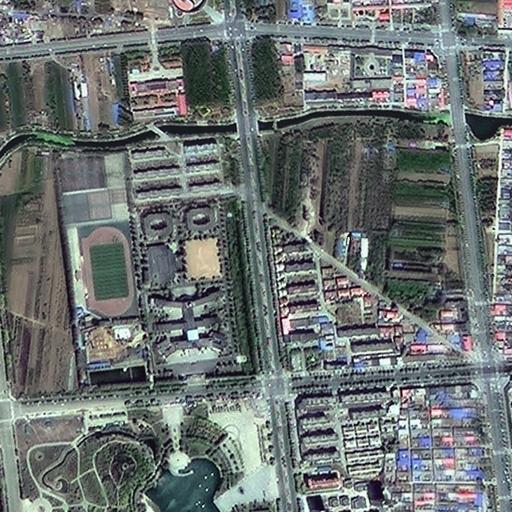school: (68, 201, 248, 379)
